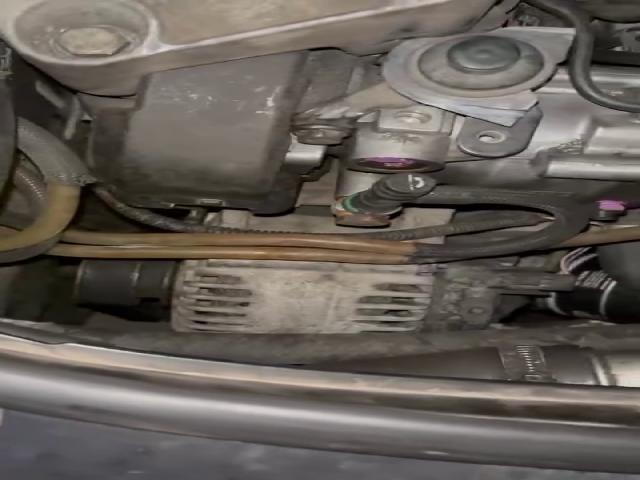alternator: (169, 250, 581, 334)
high_pressure_pump: (338, 63, 640, 222)
